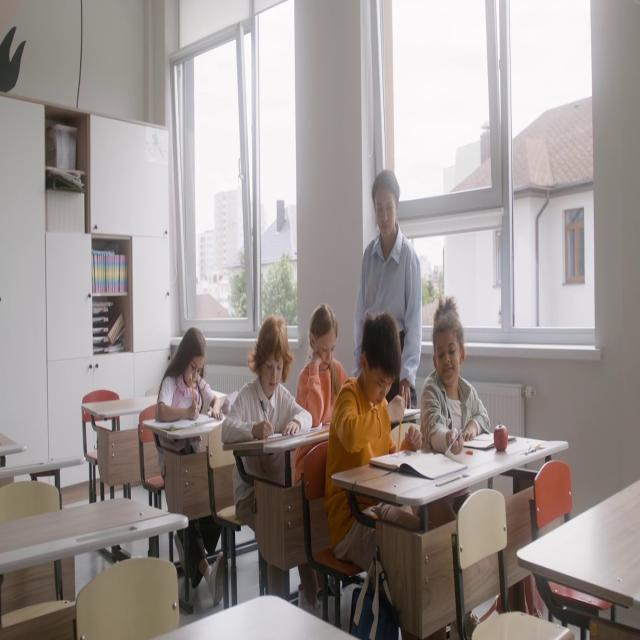reading: (294, 306, 340, 438)
turning: (418, 298, 489, 470)
writing: (326, 314, 422, 622), (223, 315, 311, 512), (156, 328, 229, 465)
